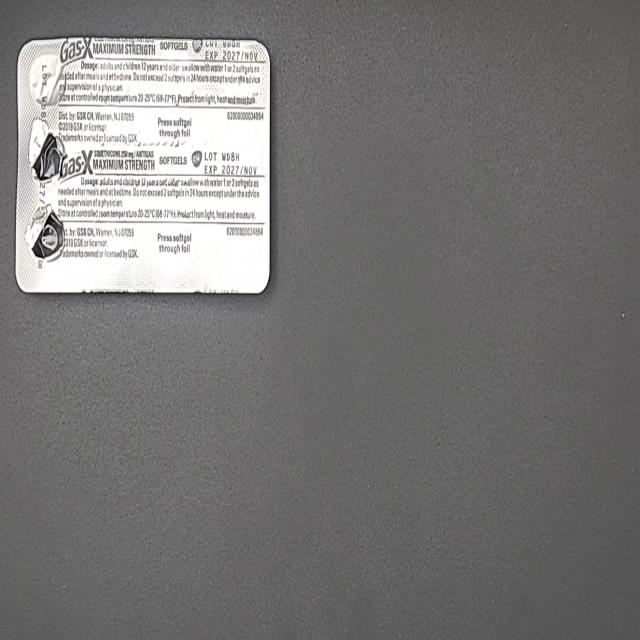defect: (25, 115, 68, 187), (22, 198, 67, 266)
